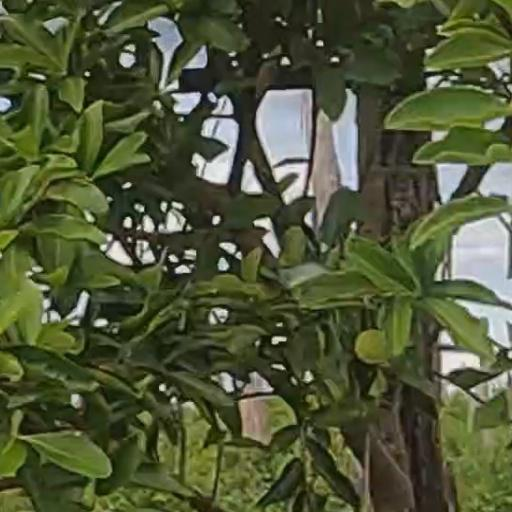acerola: (355, 330, 386, 364)
